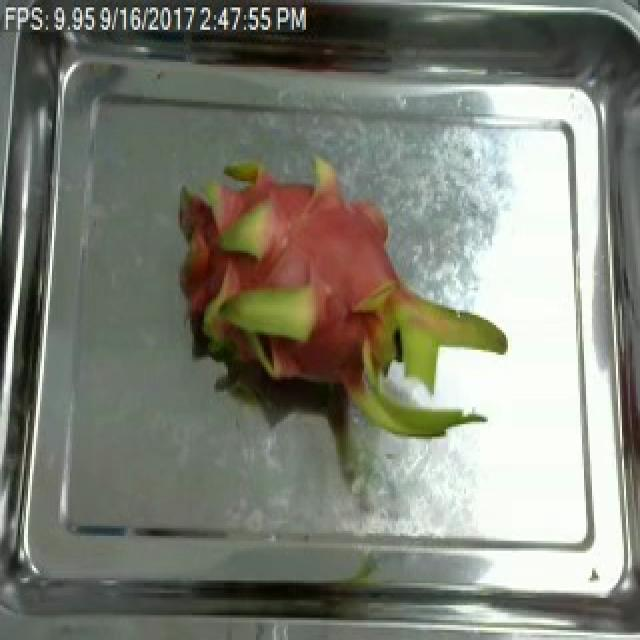fruit: (148, 112, 518, 471)
